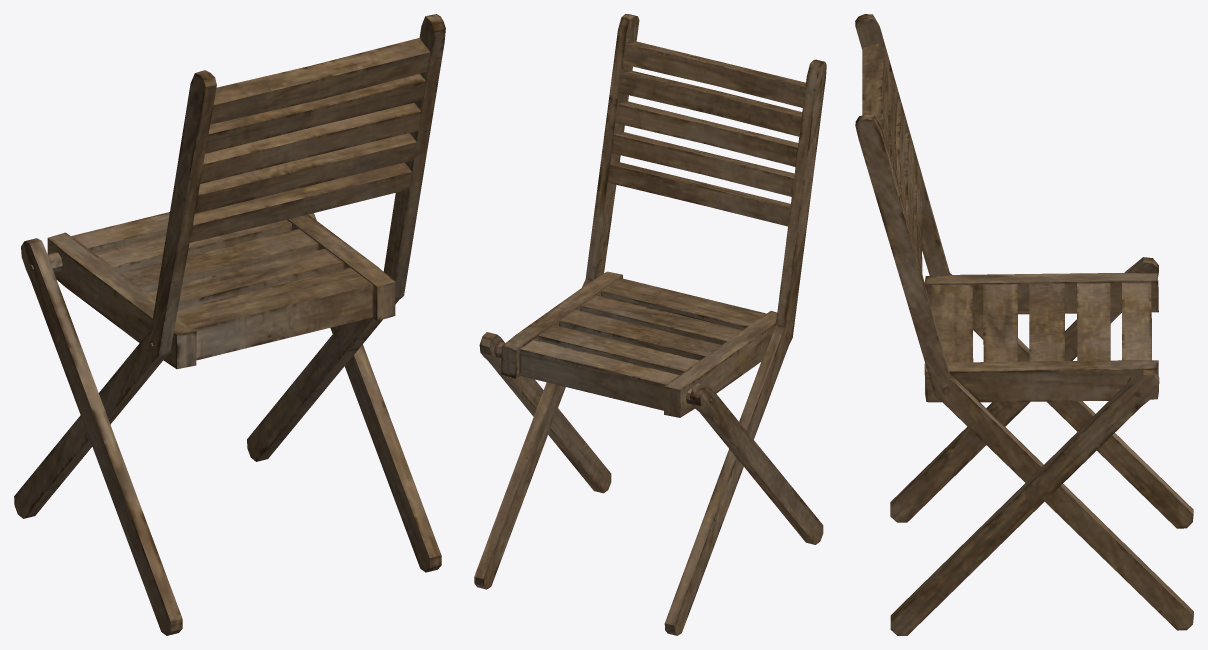
The model's file is Wooden_Folding_Chair.fbx.
3 renders of one model, left to right at view 1: azimuth 30°, elevation 25°; view 2: azimuth 150°, elevation 25°; view 3: azimuth 270°, elevation 25°, orthographic. The views are drawn at different scales.
Parts seen in each view (by area): view 1: Wooden_Folding_Chair; view 2: Wooden_Folding_Chair; view 3: Wooden_Folding_Chair.
Boxes of the visible parts, bbox=[...] form: Wooden_Folding_Chair: bbox=[14, 14, 445, 635]; Wooden_Folding_Chair: bbox=[474, 14, 826, 635]; Wooden_Folding_Chair: bbox=[855, 14, 1193, 635].
Size of the model in its own units: 0.3857 by 0.7655 by 0.4603.
